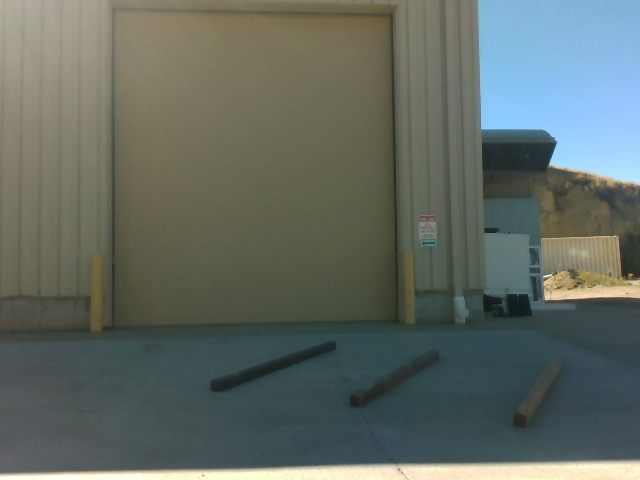dunnage: (205, 334, 569, 434)
